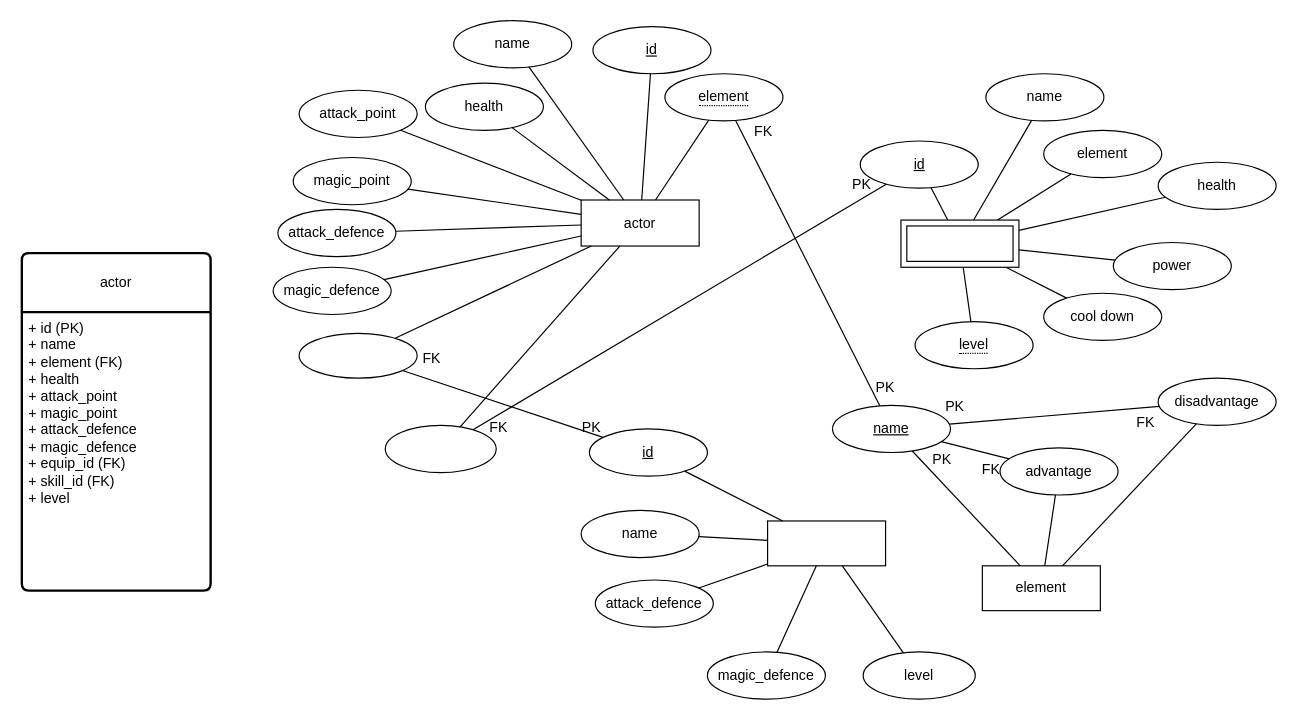
This 1297x720 diagram has some shape labels left out. Each missing label, with the centre of its shape:
"equ_id" belongs at point (357, 355).
"equipment" belongs at point (826, 543).
"skill" belongs at point (959, 243).
"skill_id" belongs at point (440, 448).
